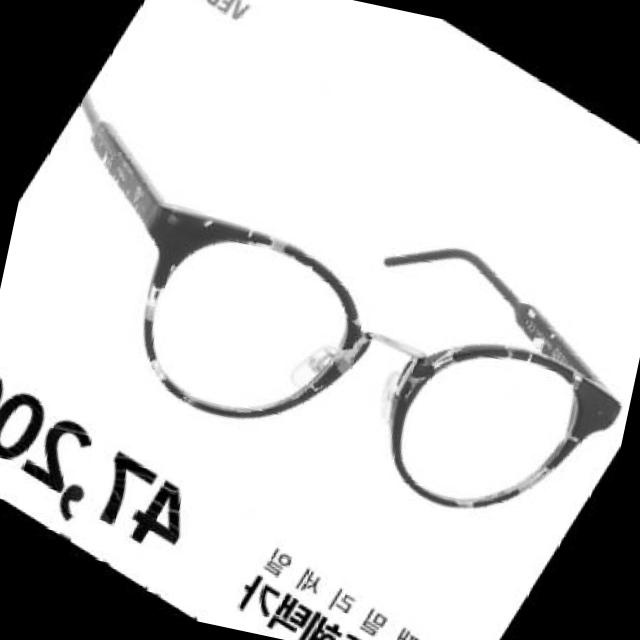glasses: (0, 17, 640, 620)
